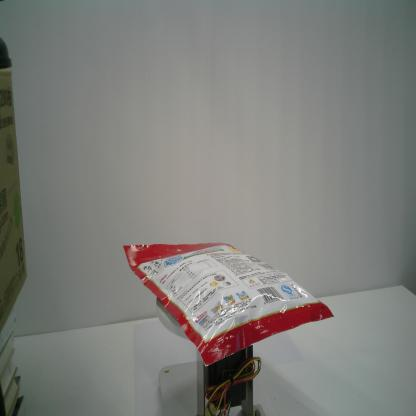Instant Drink: (122, 240, 335, 368)
